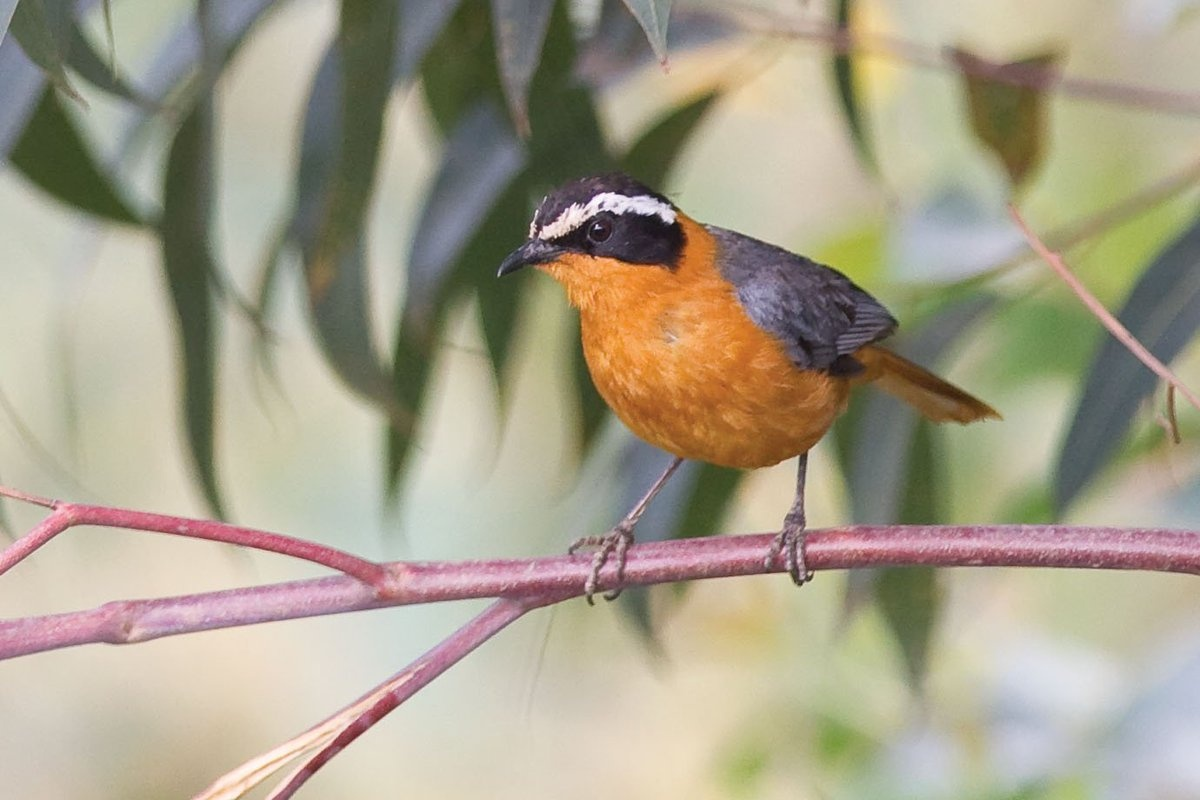bird: (492, 166, 1018, 609)
